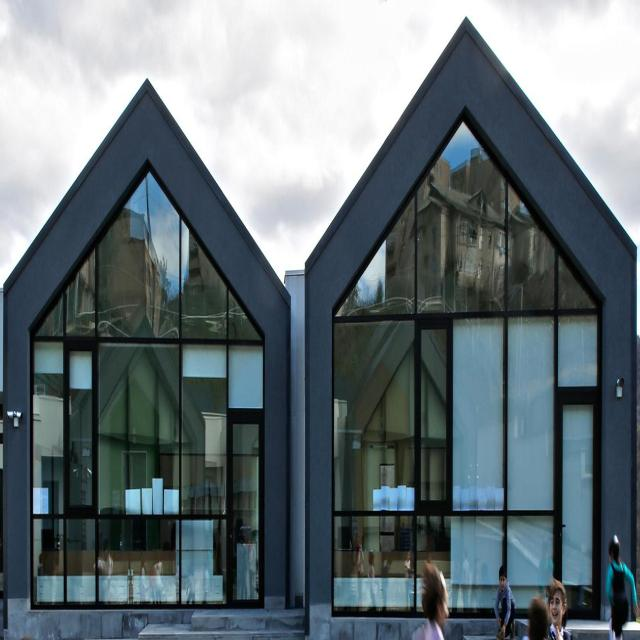door: (552, 383, 600, 611), (227, 408, 265, 614)
wall: (3, 14, 638, 638)
windows: (333, 120, 602, 611), (30, 167, 264, 609)
